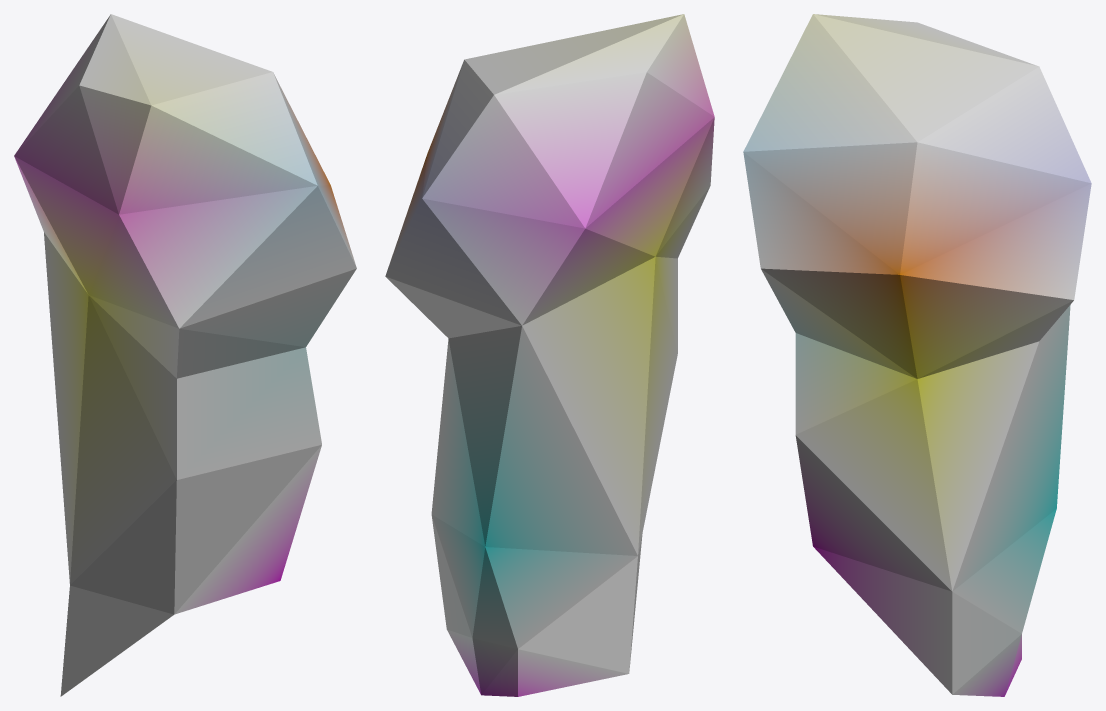
3 renders of one model, left to right at view 1: azimuth 30°, elevation 25°; view 2: azimuth 150°, elevation 25°; view 3: azimuth 270°, elevation 25°, orthographic. The views are drawn at different scales.
Parts seen in each view (by area): view 1: model_110F; view 2: model_110F; view 3: model_110F.
Part boxes in pixels (x1,y1,x2,y2): model_110F: (14, 14, 356, 696); model_110F: (385, 14, 714, 696); model_110F: (743, 14, 1091, 696).
Size of the model in its own units: 16 by 40 by 20.
